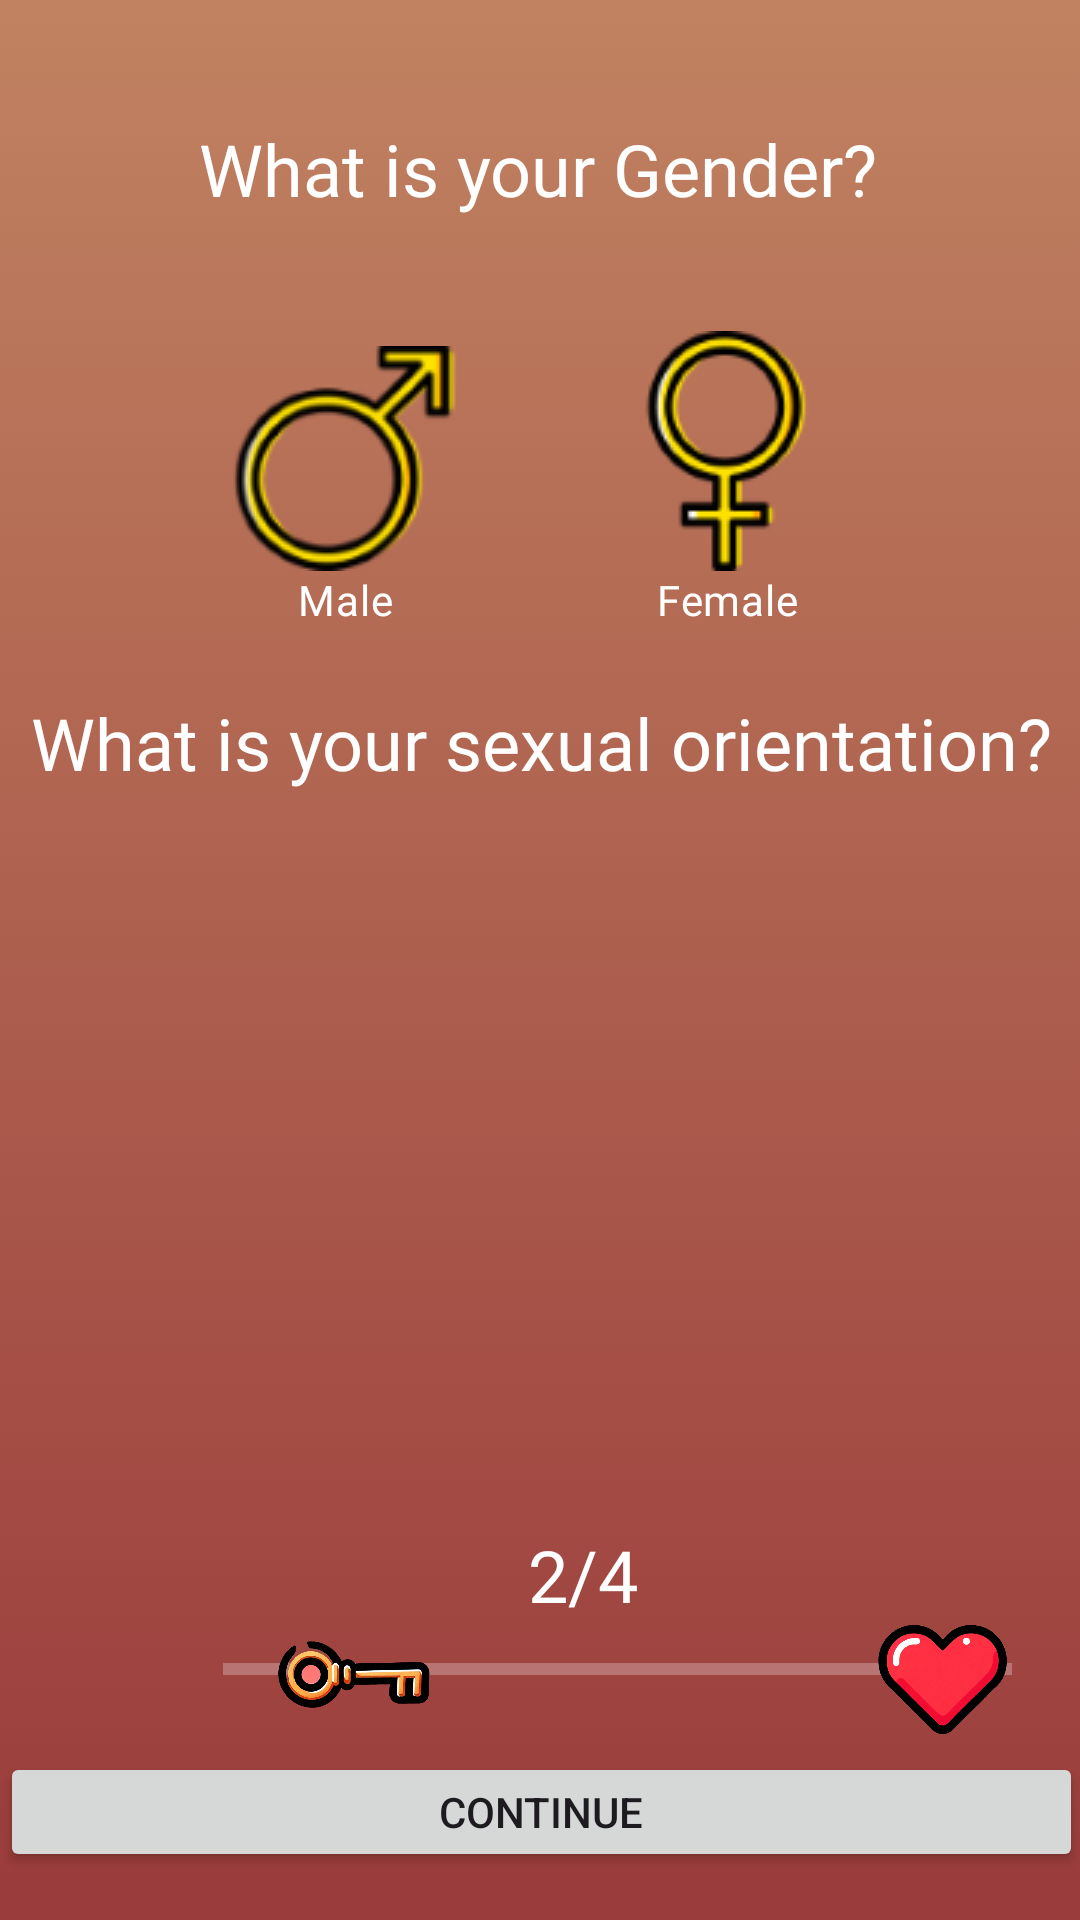

Where to tap for icons on this 1080x1920 app screen, as (x,y):
heart: (942,1679)
